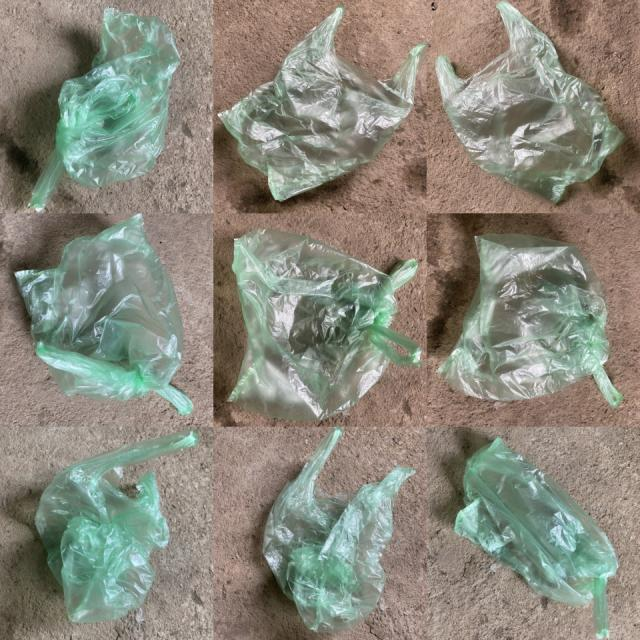Single-layer Plastic: (219, 6, 426, 200), (435, 1, 625, 203), (229, 229, 421, 420), (15, 214, 192, 414), (16, 215, 192, 414), (455, 438, 618, 638), (438, 234, 624, 408), (262, 428, 415, 632), (35, 430, 197, 622), (29, 8, 180, 211)
